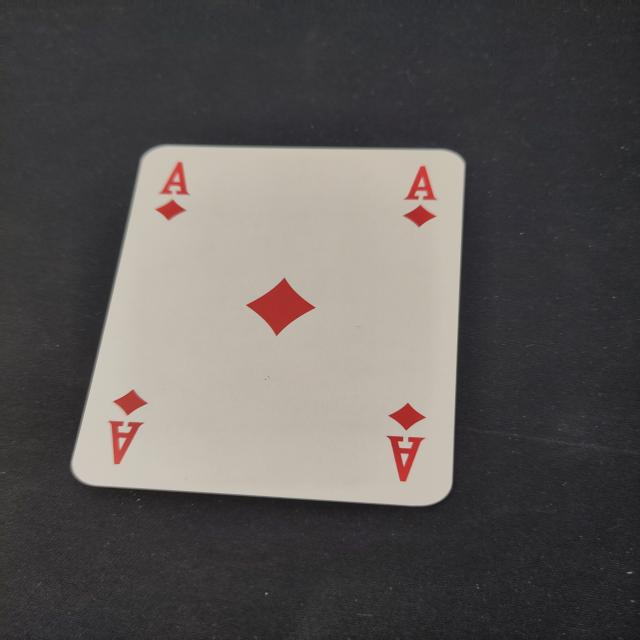Ad: (375, 388, 436, 492), (94, 383, 158, 472), (392, 158, 445, 234), (147, 156, 196, 234)
